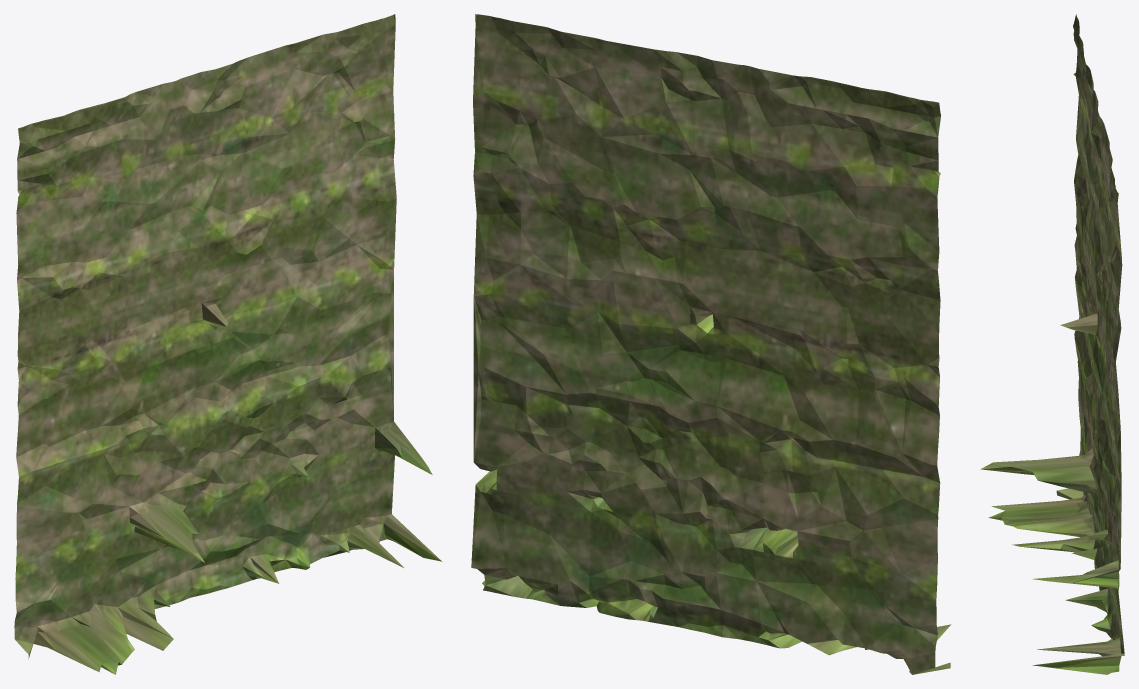
The model's file is map_150_100.obj.
3 views of the same model, side by side, from view 1: azimuth 30°, elevation 25°; view 2: azimuth 150°, elevation 25°; view 3: azimuth 270°, elevation 25° (orthographic). The views are drawn at different scales.
Visible parts, largest first — view 1: grp1; view 2: grp1; view 3: grp1.
Part boxes in pixels (x1,y1,x2,y2): grp1: [14, 14, 441, 674]; grp1: [471, 14, 951, 674]; grp1: [980, 14, 1124, 674].
Bounding box in the file's own units: 8 × 10 × 2.73.
1 material, 1 textured.
